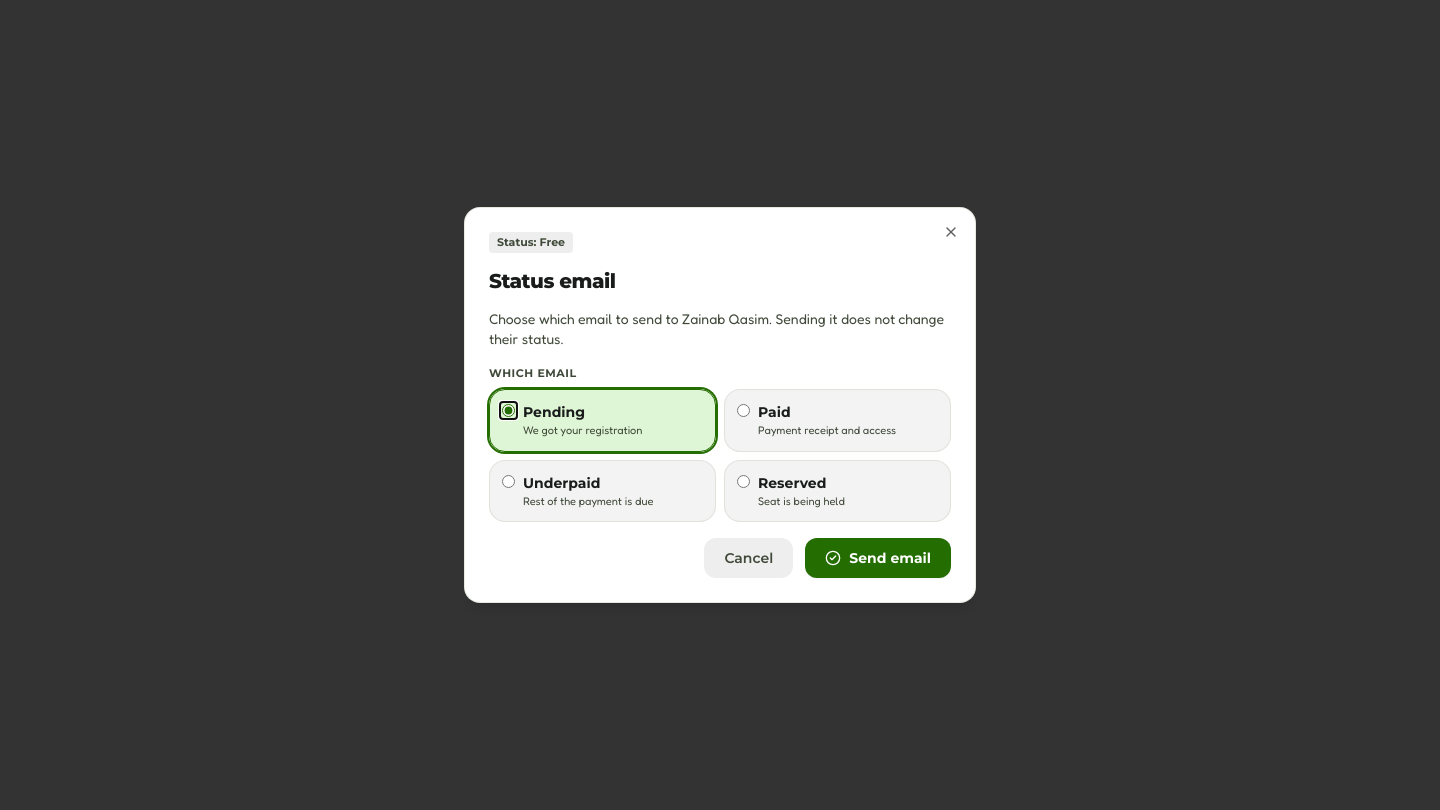
Scenario: status email dialog › treats a free row as matching the Pending email
Expected: the radio button labelled "Pending We got your registration" is checked, [502,404,515,417]
Expected: the text "You picked" is not shown
Click the radio button labelled "Paid Payment receipt and access". click: (744, 410)
box: [737,404,750,417]
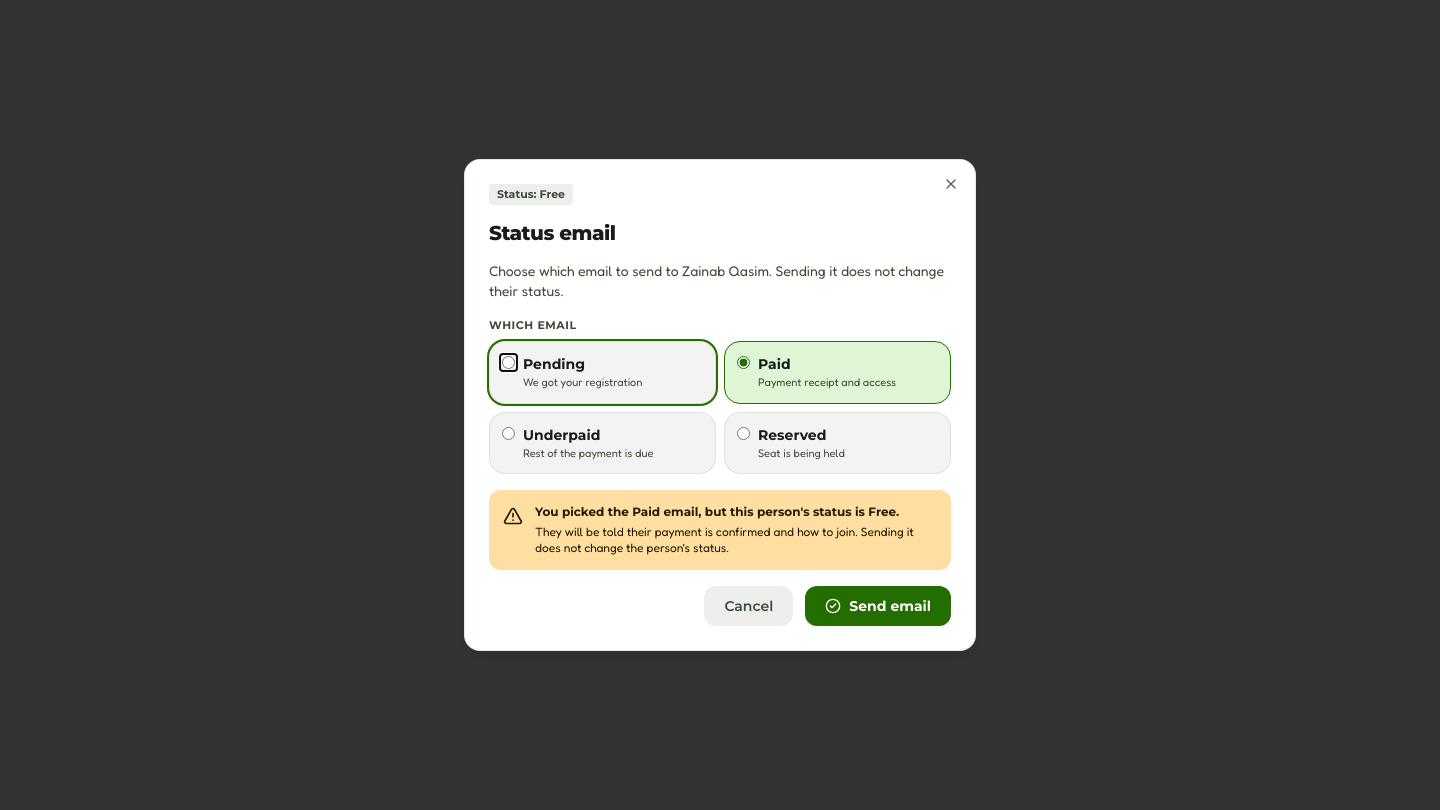
Now the text "You picked the Paid email, but this person's status is Free." is shown, box [535,504,937,520]
